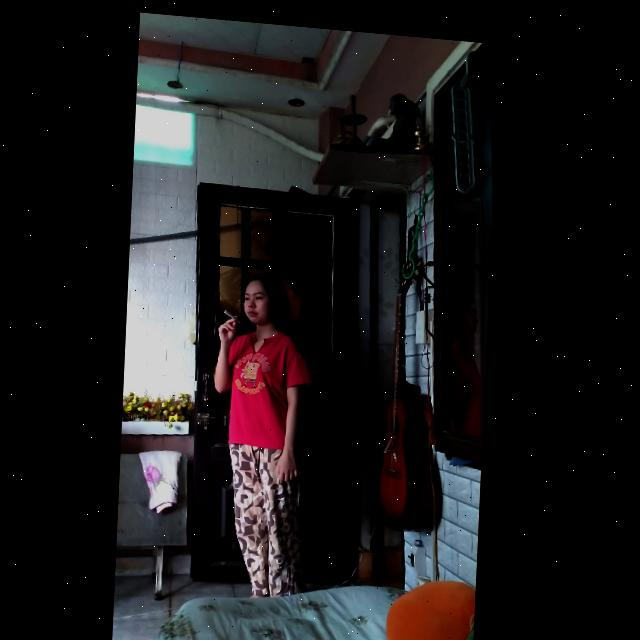cigarette: (227, 306, 244, 319)
